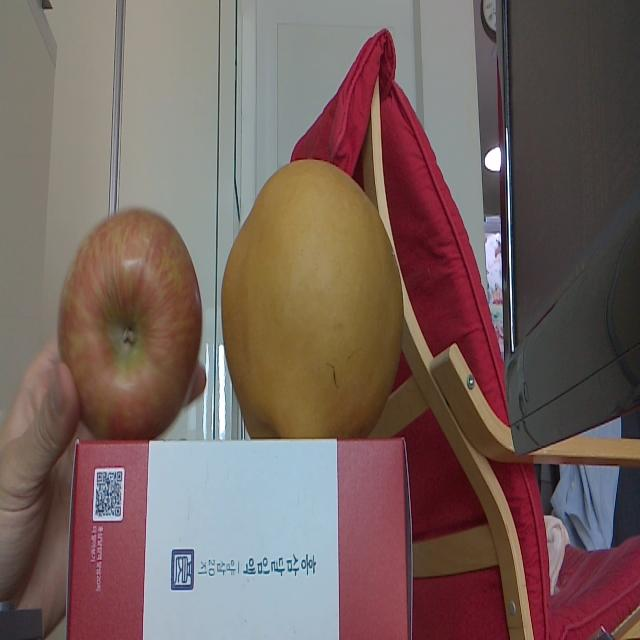apple: (57, 207, 202, 438)
pear: (221, 162, 402, 438)
